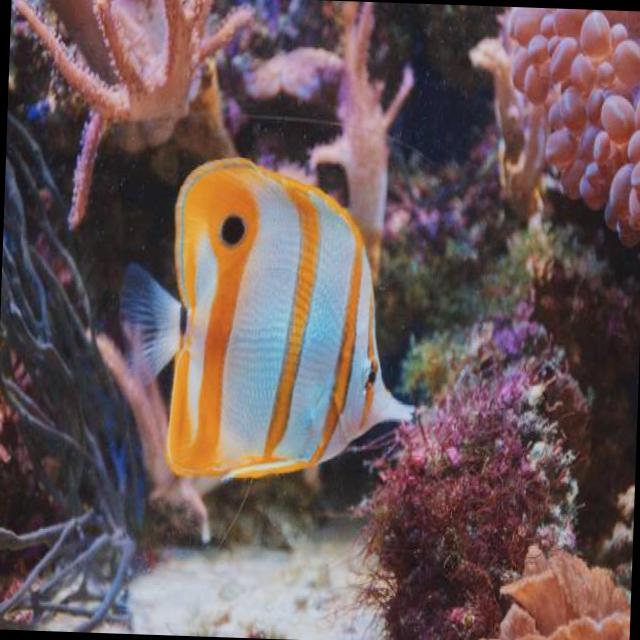ButterflyFish: (109, 149, 430, 496)
